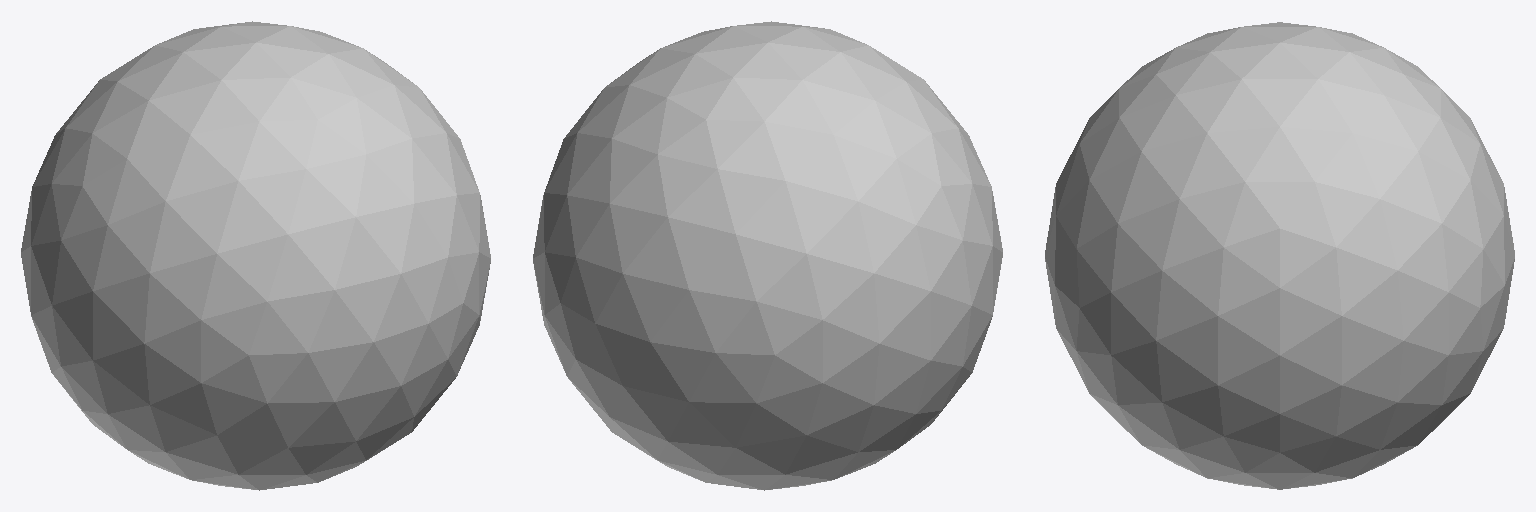
The model's file is joint_ball.obj.
The picture shows the model from 3 angles: view 1: azimuth 30°, elevation 25°; view 2: azimuth 150°, elevation 25°; view 3: azimuth 270°, elevation 25°; orthographic projection.
Parts seen in each view (by area): view 1: icosahedron2; view 2: icosahedron2; view 3: icosahedron2.
Boxes of the visible parts, box(x1,y1,x2,y2) form: icosahedron2: box(21, 21, 490, 490); icosahedron2: box(533, 21, 1002, 490); icosahedron2: box(1045, 22, 1514, 489).
Size of the model in its own units: 0.25 by 0.25 by 0.25.